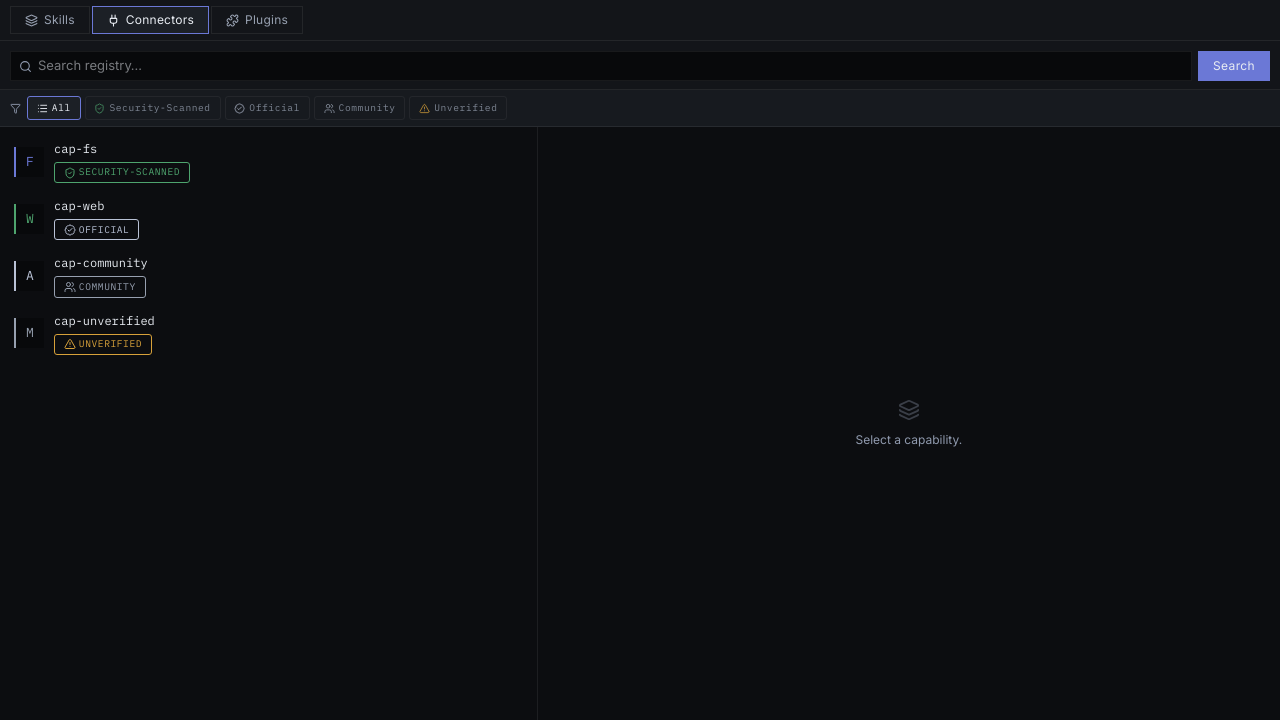
Registry › filters capabilities by trust tier when a filter stamp is clicked
Check: the text "cap-fs" is shown, box [54,141,97,156]
# Click the Official filter
Click the button "Official" at (267, 108), box [224,96,310,120]
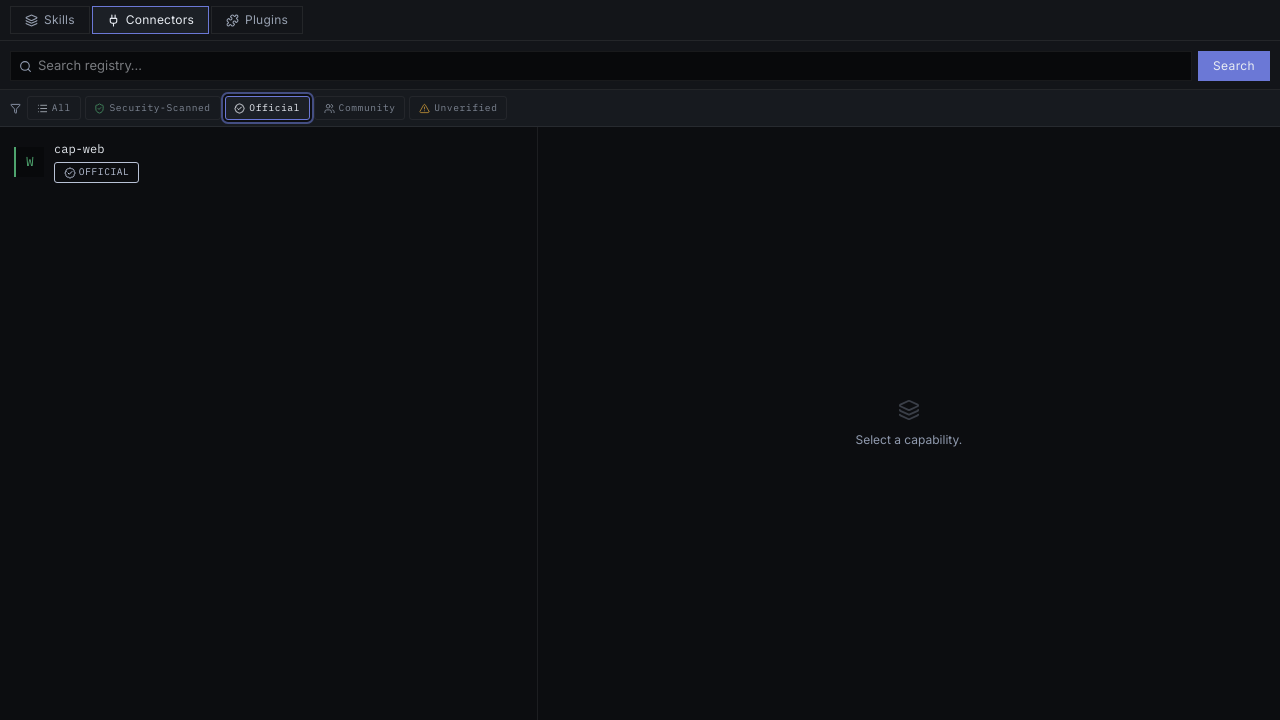
Check: the text "cap-web" is shown, box [54,141,104,156]
Check: the button "cap-fs" is gone
